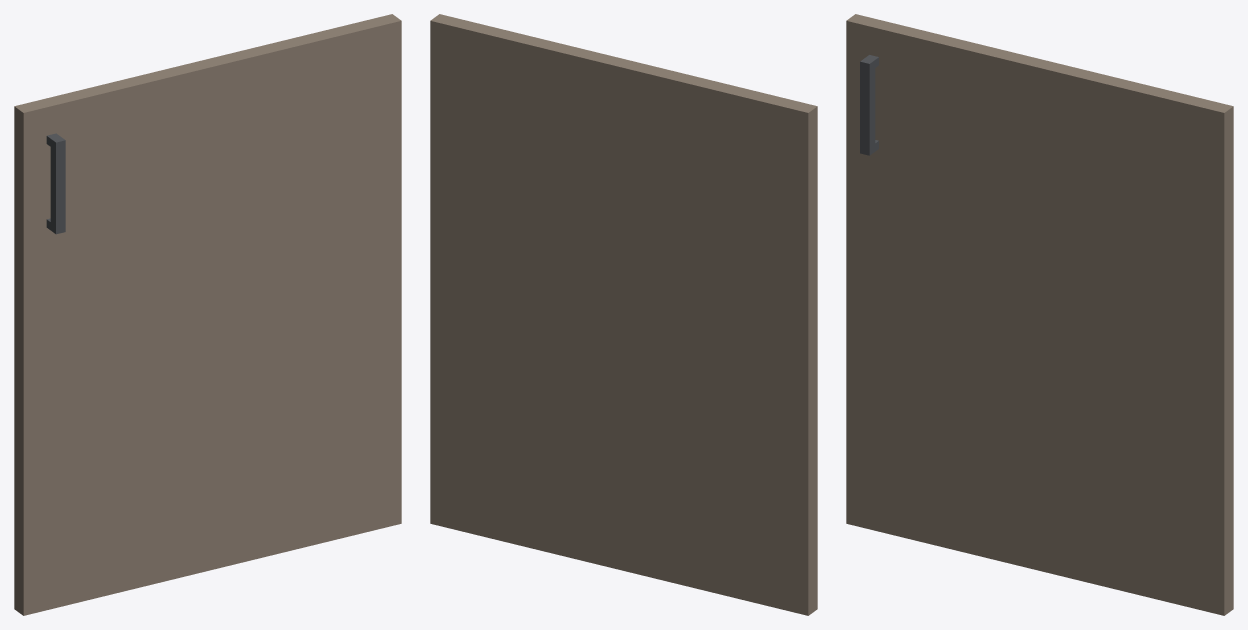
Rendered from Door1_C5_01.fbx.
3 renders of one model, left to right at view 1: azimuth 30°, elevation 25°; view 2: azimuth 150°, elevation 25°; view 3: azimuth 330°, elevation 25°, orthographic.
Parts seen in each view (by area): view 1: Door1_C5_01; view 2: Door1_C5_01; view 3: Door1_C5_01.
Part boxes in pixels (left/top/right/bottom): Door1_C5_01: left=14, top=14, right=401, bottom=615; Door1_C5_01: left=430, top=14, right=817, bottom=615; Door1_C5_01: left=846, top=14, right=1233, bottom=615.
Size of the model in its own units: 59 by 75 by 5.03.
